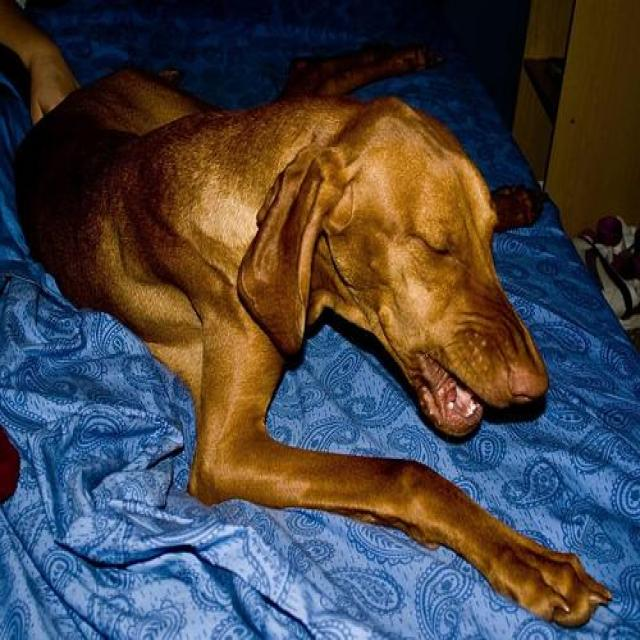vizsla: (12, 44, 616, 636)
